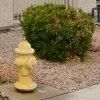a fire hydrant: (0, 21, 39, 94)
